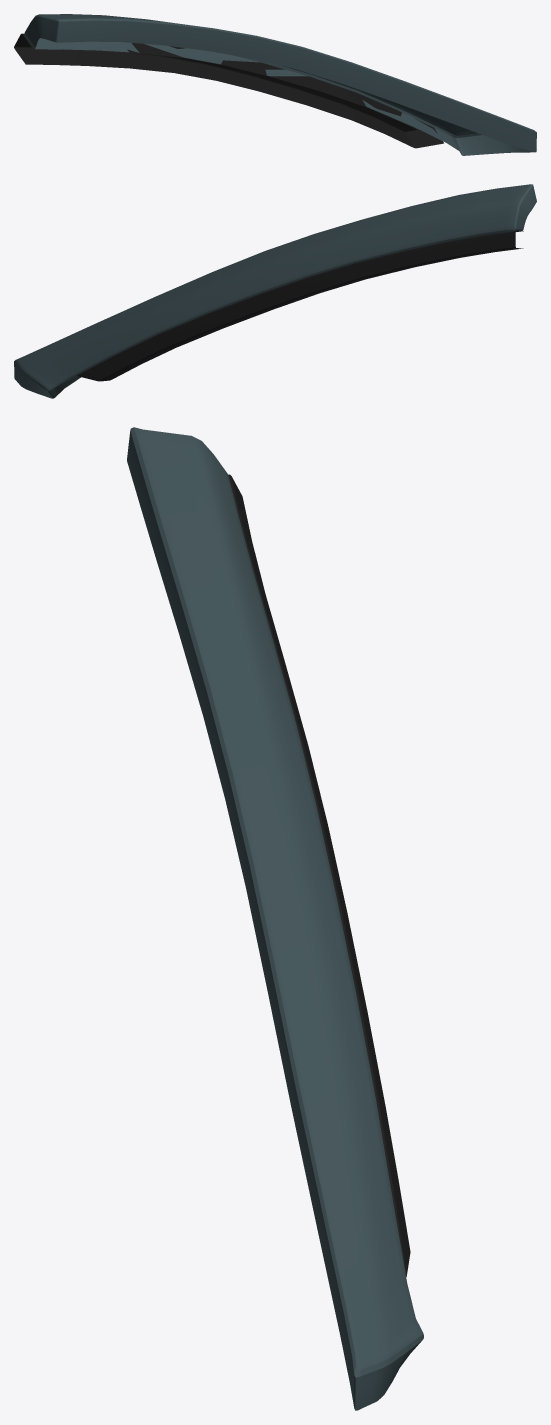
The picture shows the model from 3 angles, top to bottom: view 1: azimuth 30°, elevation 25°; view 2: azimuth 150°, elevation 25°; view 3: azimuth 270°, elevation 25°; orthographic projection. The views are drawn at different scales.
Parts seen in each view (by area): view 1: P222_15_181C_L_1_DaS_P222_15_181C_L, P222_15_181C_L_P222_15_181C_L_2_D, P222_15_181C_L_1_DaS_P222_15_181C_L_E; view 2: P222_15_181C_L_1_DaS_P222_15_181C_L, P222_15_181C_L_P222_15_181C_L_2_D, P222_15_181C_L_1_DaS_P222_15_181C_L_E; view 3: P222_15_181C_L_1_DaS_P222_15_181C_L, P222_15_181C_L_P222_15_181C_L_2_D, P222_15_181C_L_1_DaS_P222_15_181C_L_E.
Part boxes in pixels (x1,y1,x2,y2): P222_15_181C_L_1_DaS_P222_15_181C_L: (24,14,536,155); P222_15_181C_L_P222_15_181C_L_2_D: (14,33,443,148); P222_15_181C_L_1_DaS_P222_15_181C_L_E: (25,14,535,137); P222_15_181C_L_1_DaS_P222_15_181C_L: (14,184,536,398); P222_15_181C_L_P222_15_181C_L_2_D: (77,230,523,381); P222_15_181C_L_1_DaS_P222_15_181C_L_E: (14,184,532,391); P222_15_181C_L_1_DaS_P222_15_181C_L: (127,428,423,1410); P222_15_181C_L_P222_15_181C_L_2_D: (228,474,410,1276); P222_15_181C_L_1_DaS_P222_15_181C_L_E: (130,427,423,1377).
Size of the model in its own units: 72.94 by 39.34 by 19.82.
